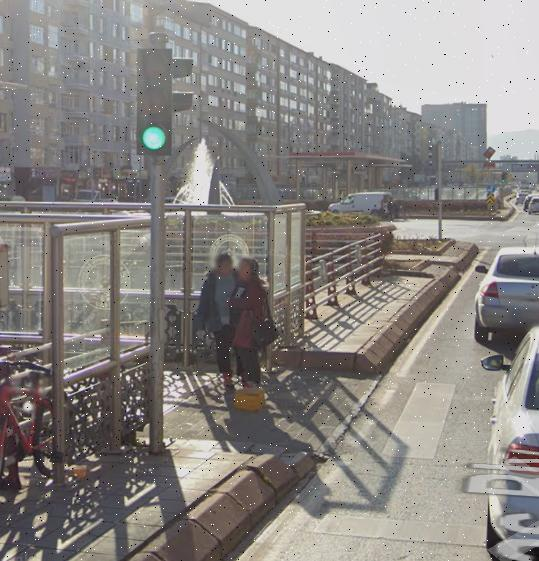greenlight: (132, 45, 177, 156)
